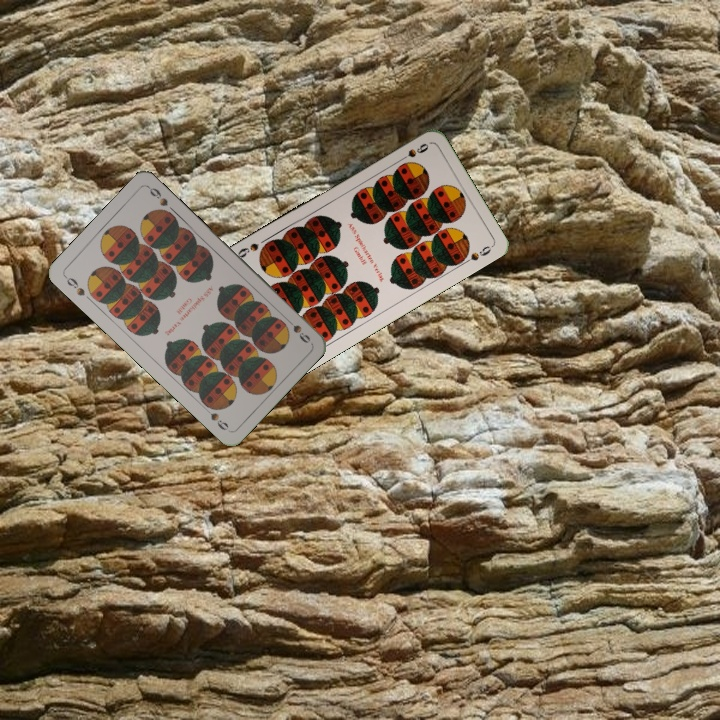S9: (280, 313, 313, 346), (394, 139, 431, 165), (60, 272, 87, 298)
